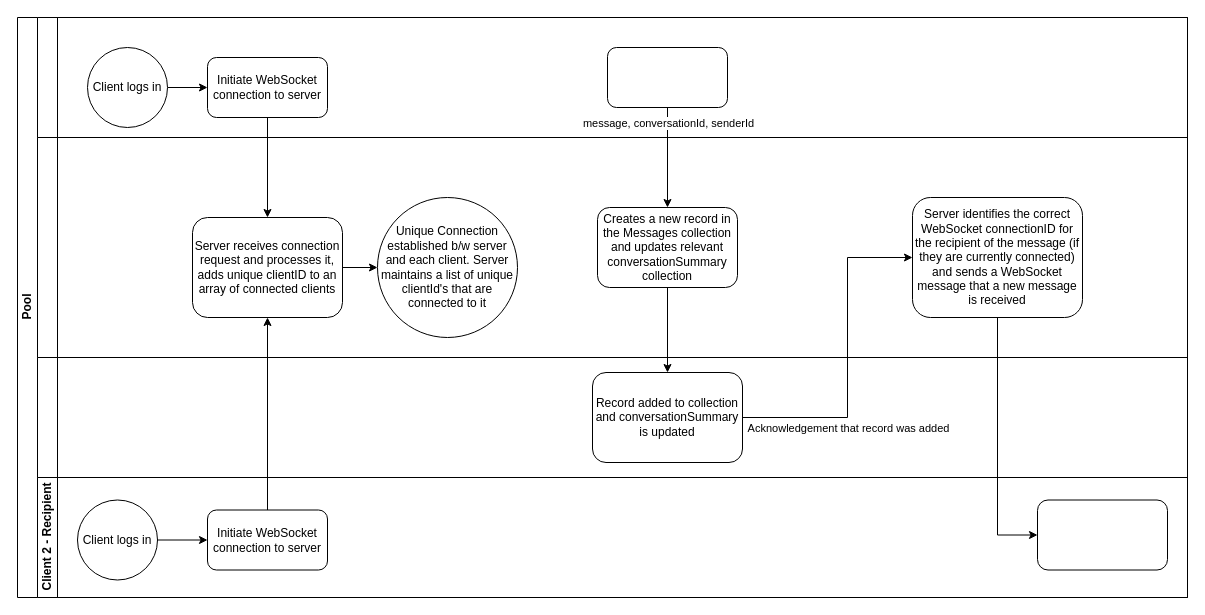
Image size: 1205x615. Some labels were removed from this diagram. Here are the shapes that lost their labels. From the top down, the box of each, then its label:
(36, 16, 1188, 138): Client 1 - Sender
(606, 46, 728, 108): AddNewMessage Component is clicked
(36, 136, 1188, 358): Node.js Server
(36, 356, 1188, 478): MongoDb
(1036, 499, 1168, 570): Client receives the message and sends a GET /message/id request to the server
